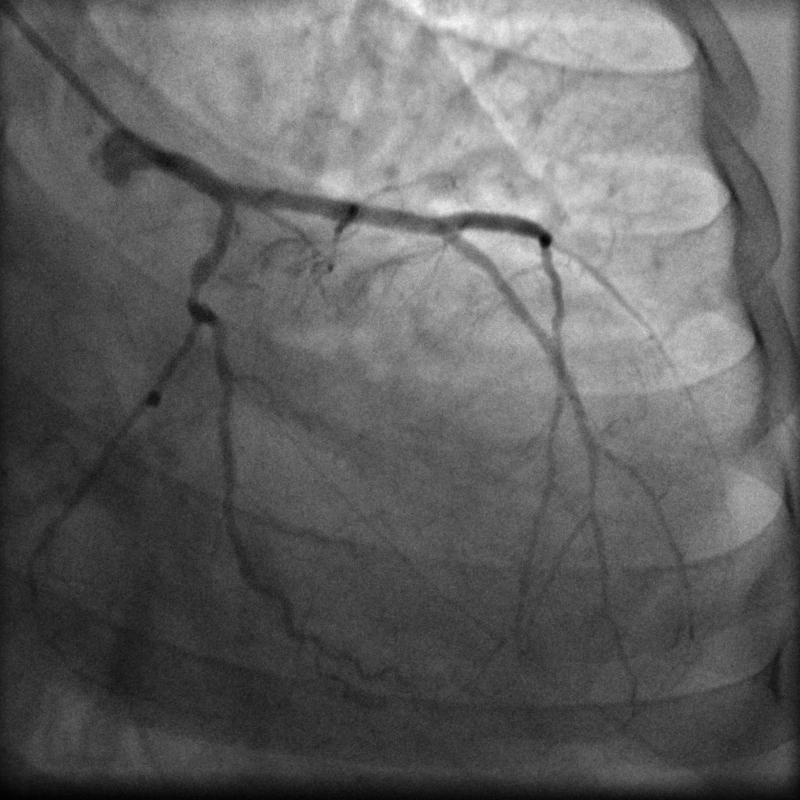Stenosis: (177, 264, 217, 311)
